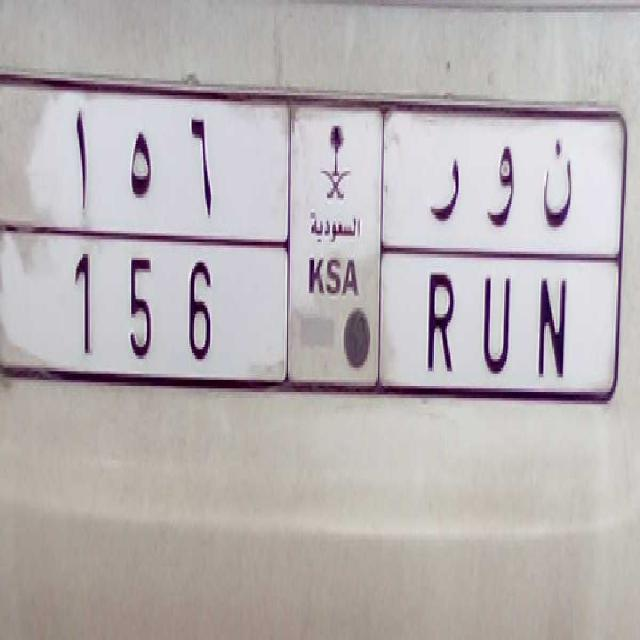license_plate: (39, 230, 588, 434)
